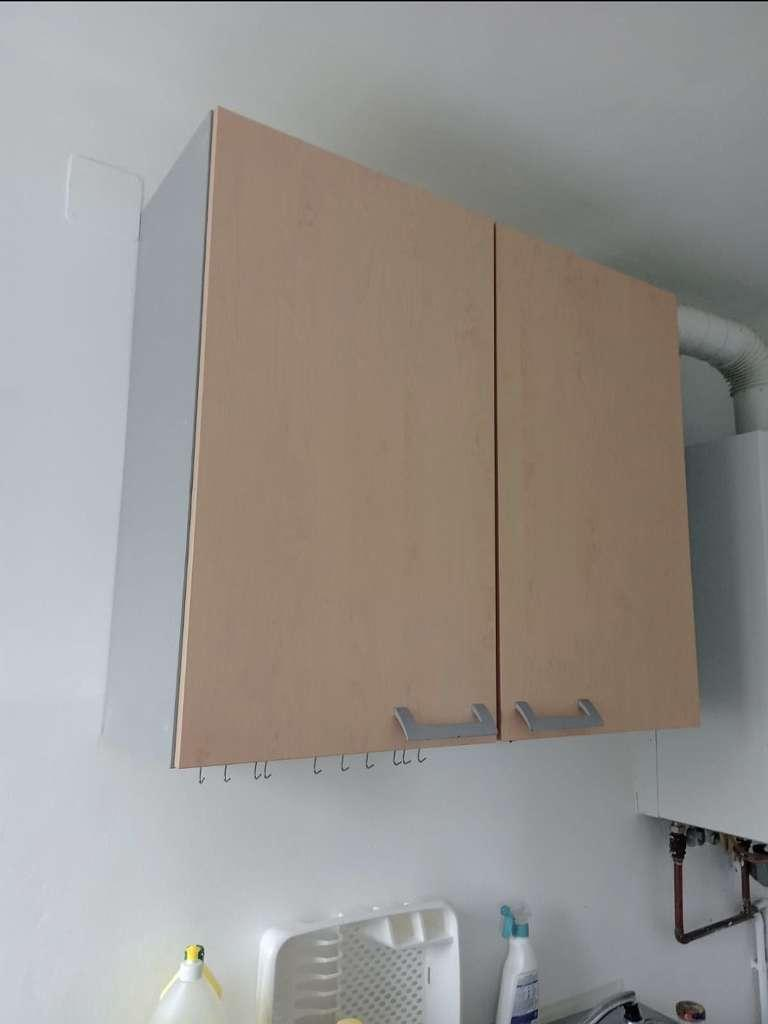cabinet_door: (207, 186, 494, 751), (494, 263, 679, 730)
handle: (389, 695, 493, 747), (514, 691, 602, 739)
